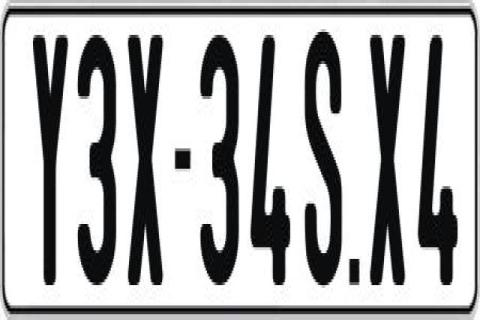0: (75, 29, 119, 297), (250, 32, 294, 291), (419, 29, 459, 297), (199, 29, 240, 288)
S: (302, 32, 345, 302)
X: (367, 32, 409, 288), (128, 26, 164, 294)
Y: (30, 35, 70, 297)
